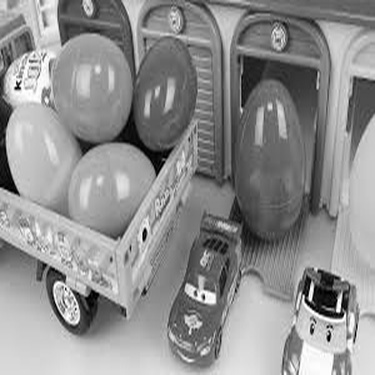car: (1, 17, 201, 334), (164, 210, 245, 365), (267, 258, 368, 368)
